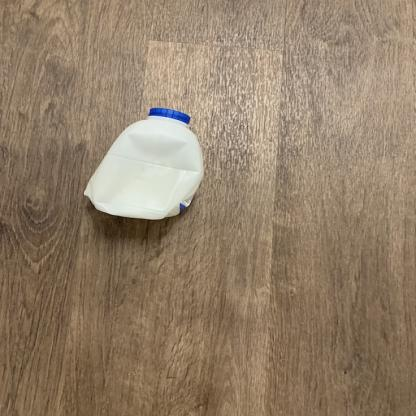trash: (80, 103, 209, 223)
